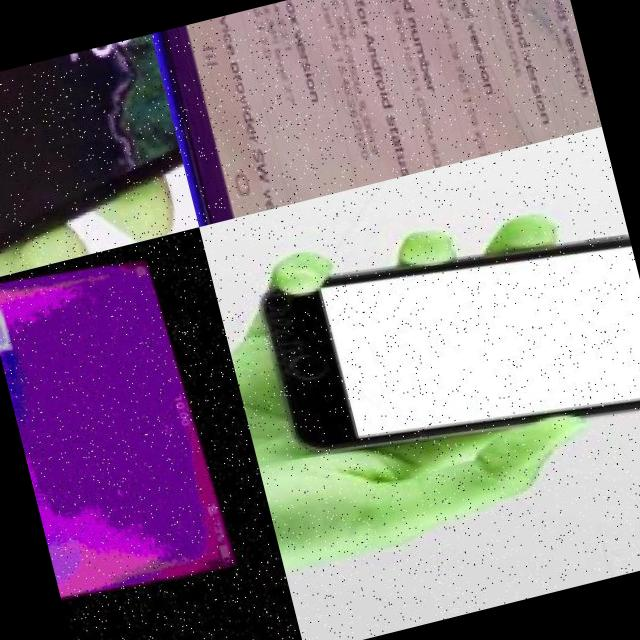screen crack: (400, 0, 601, 163)
